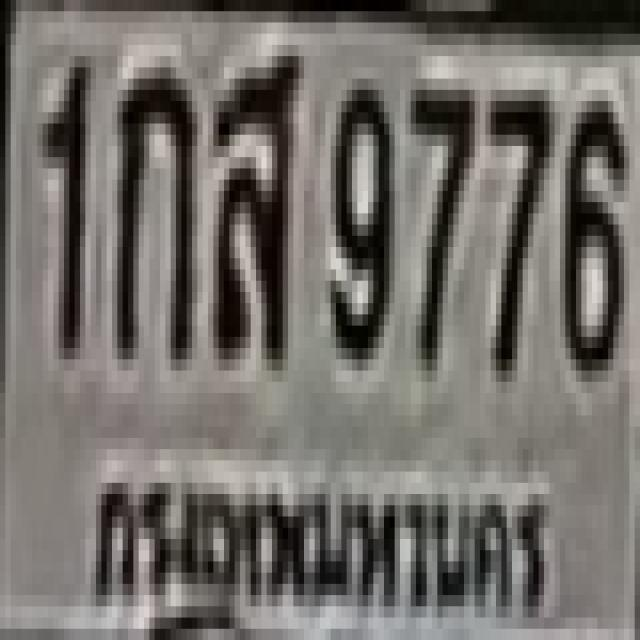1: (38, 50, 86, 342)
6: (560, 90, 619, 359)
7: (406, 79, 470, 359), (485, 78, 544, 370)
9: (326, 79, 390, 348)
A01: (112, 62, 192, 354)
A40: (208, 50, 293, 354)
BKK: (70, 441, 551, 640)
